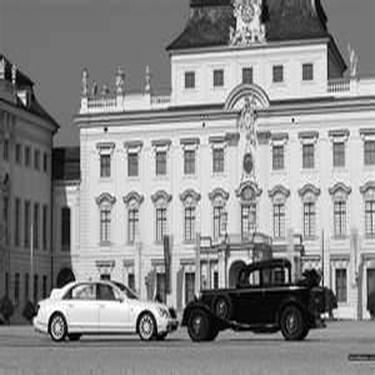car: (172, 251, 338, 343), (18, 263, 172, 344)
